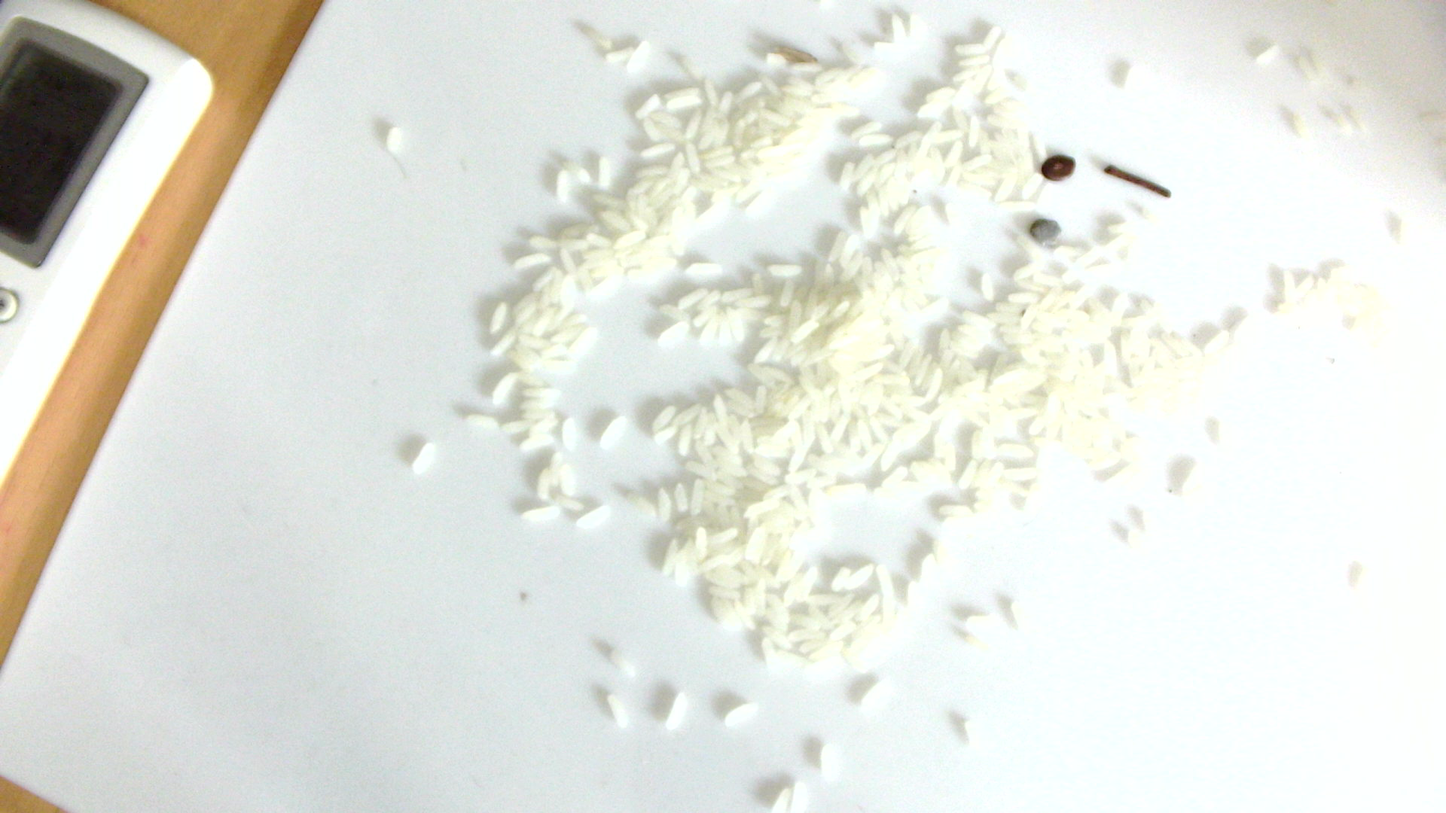WatermelonSeeds: (1028, 217, 1065, 250)
wood: (1104, 156, 1181, 208), (1030, 148, 1082, 184)
